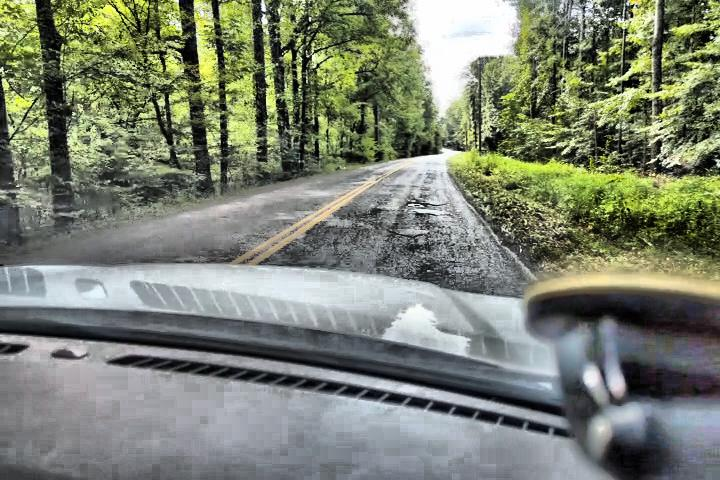pothole: (403, 197, 429, 212)
